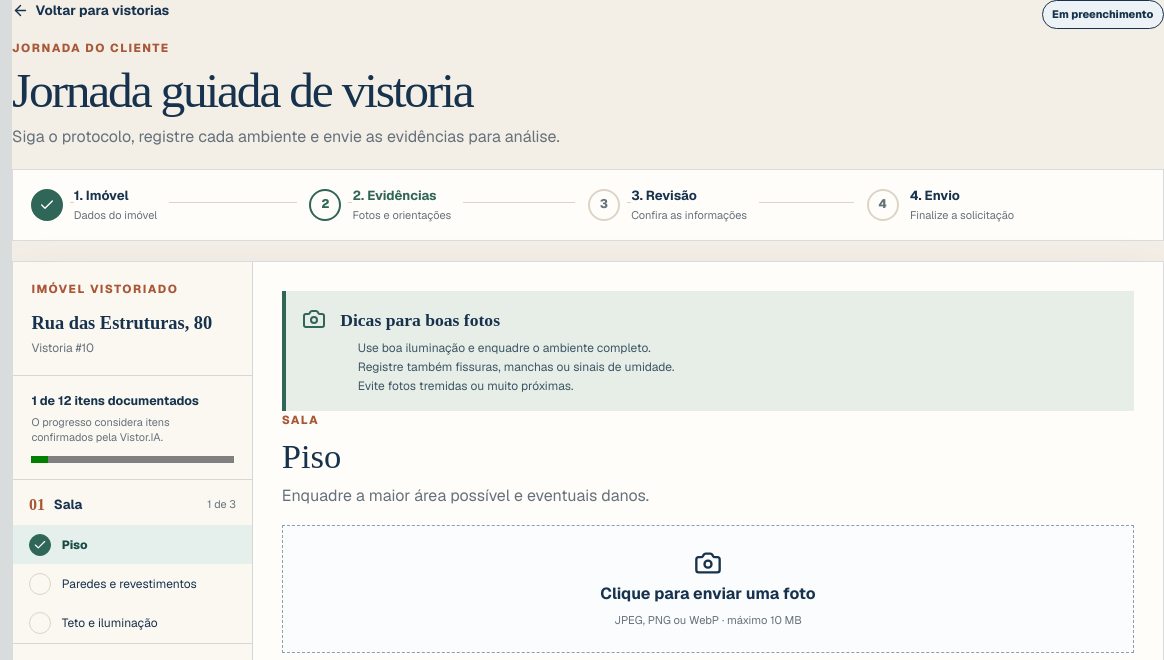
InspectionWorkflow › organiza o protocolo em etapas, navegação lateral e item focado
Expected: the heading "Piso" is shown, [282,437,341,475]
Expected: the text "Dicas para boas fotos" is shown, [340,310,500,330]
Click the button "Paredes e revestimentos" at (132, 584), box [13,564,252,604]
(page scrolled)
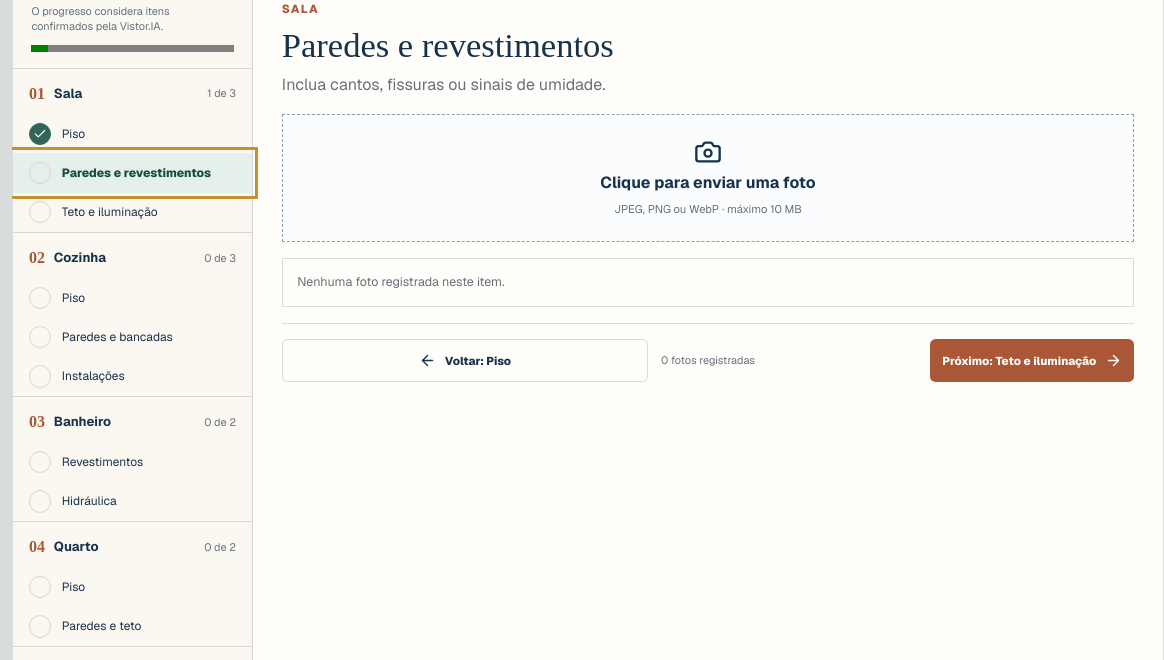
Expected: the heading "Paredes e revestimentos" is shown, [282,26,614,64]
Expected: the button "Próximo: Teto e iluminação" is shown, [930,339,1134,382]
